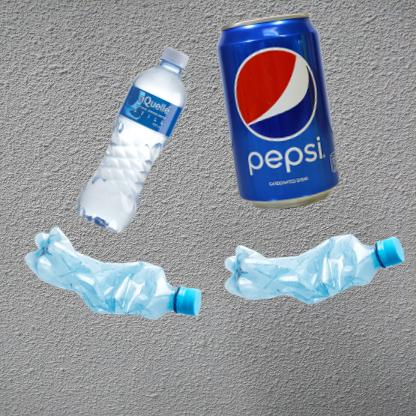botella: (10, 10, 284, 284), (10, 213, 262, 373), (213, 213, 416, 331)
lata: (213, 10, 351, 229)
